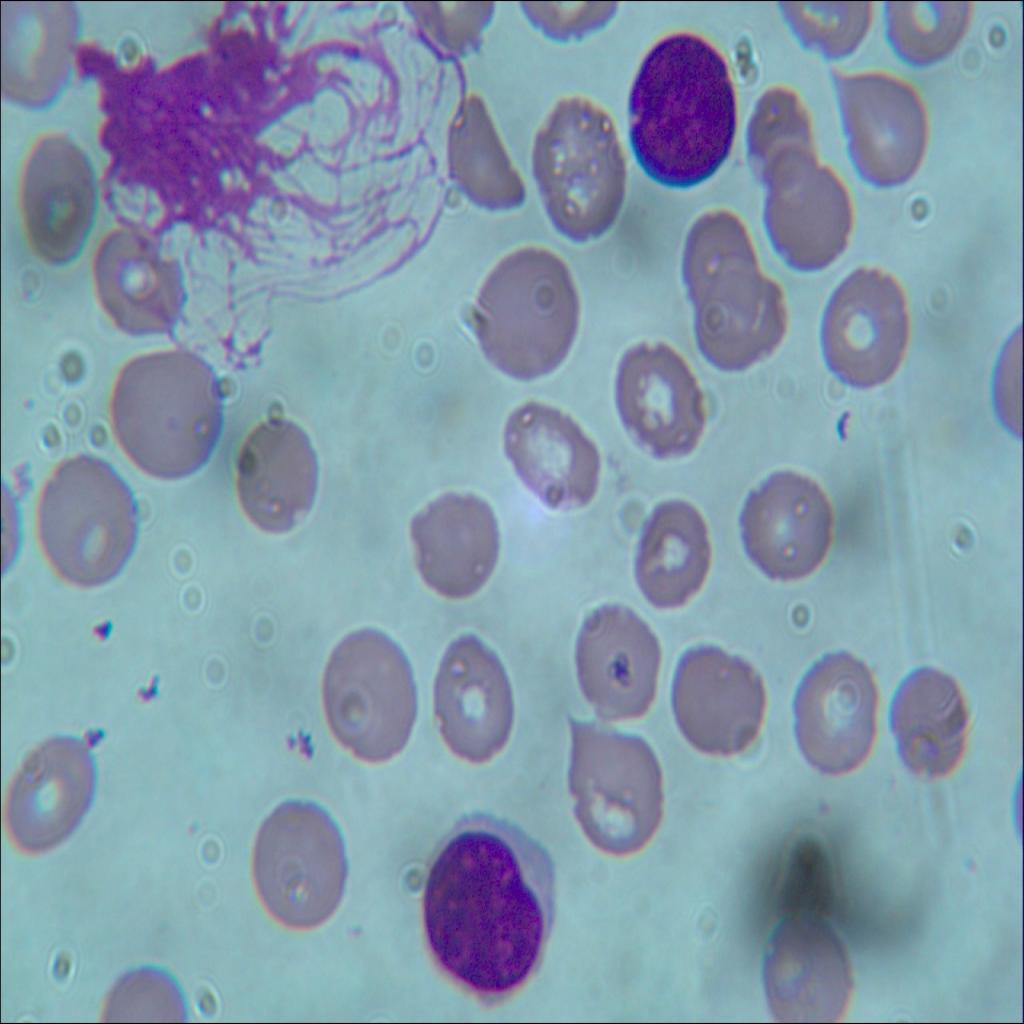Eritrosit: (460, 237, 578, 381), (106, 343, 220, 492), (319, 610, 418, 778), (526, 82, 626, 245), (32, 447, 142, 592), (246, 797, 351, 942), (555, 722, 666, 856), (0, 724, 98, 867), (420, 630, 518, 767), (826, 68, 929, 198), (15, 124, 99, 282), (752, 904, 862, 1023), (791, 642, 886, 778), (816, 261, 913, 394), (664, 641, 770, 761), (499, 392, 603, 514), (404, 478, 498, 610), (611, 335, 708, 458), (83, 222, 189, 334), (438, 97, 532, 219), (882, 655, 972, 781), (741, 467, 831, 586), (764, 155, 853, 275), (228, 415, 319, 532), (572, 597, 658, 719), (621, 490, 710, 604), (0, 0, 81, 121), (702, 266, 791, 364), (674, 204, 751, 317), (744, 77, 813, 188), (879, 0, 983, 71)
Limfoblast: (415, 808, 562, 1004), (628, 35, 736, 178)
Platelet: (81, 612, 116, 654)
